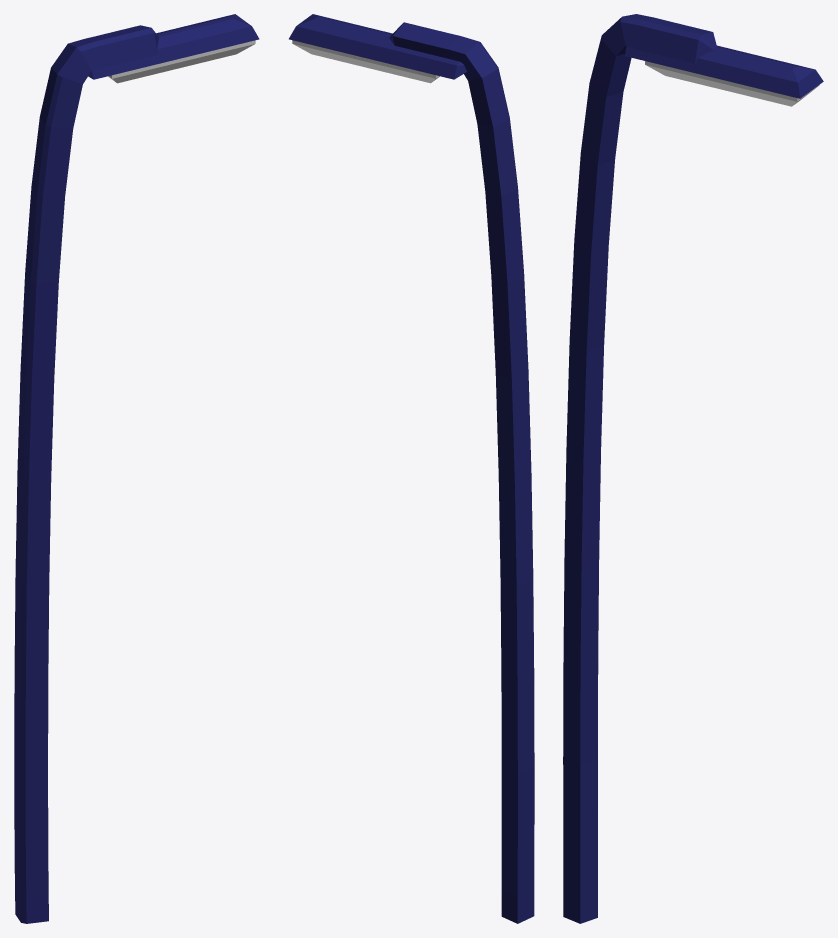
Rendered from LightPost.fbx.
The picture shows the model from 3 angles, left to right: view 1: azimuth 30°, elevation 25°; view 2: azimuth 150°, elevation 25°; view 3: azimuth 330°, elevation 25°; orthographic projection. The views are drawn at different scales.
Parts seen in each view (by area): view 1: BezierCurve; view 2: BezierCurve; view 3: BezierCurve.
Part boxes in pixels (x1,y1,x2,y2): BezierCurve: (14,14,259,923); BezierCurve: (289,14,534,923); BezierCurve: (563,14,823,923).
Size of the model in its own units: 409 by 1456 by 68.17.
